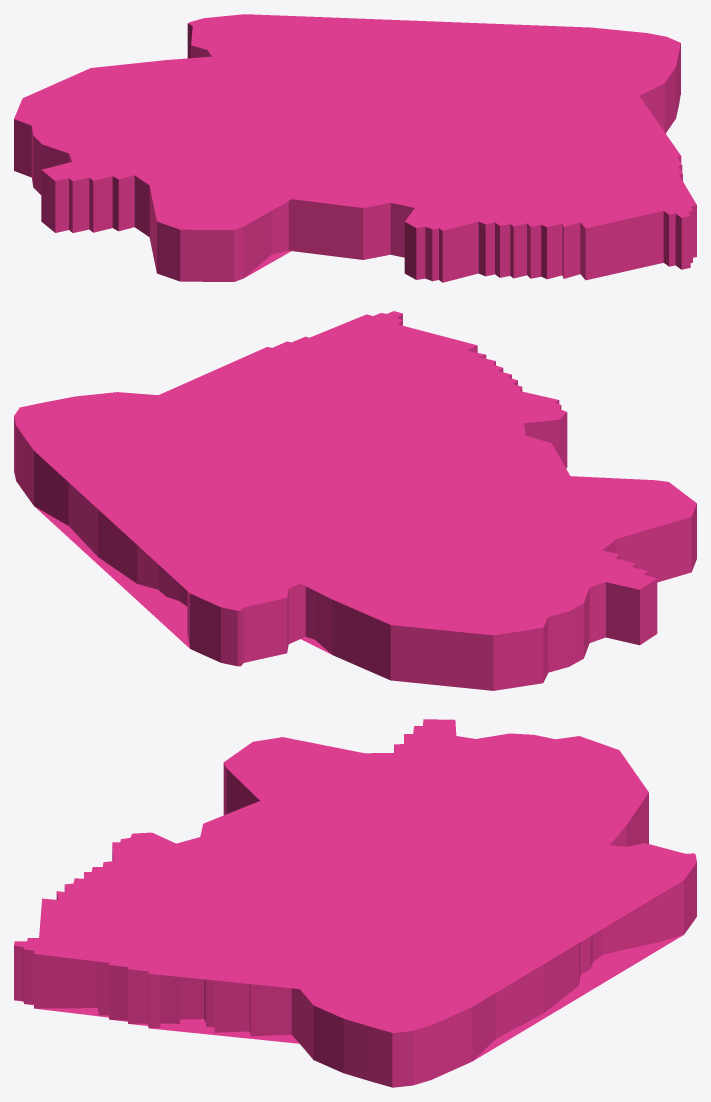
Rendered from uttrakand.fbx.
The picture shows the model from 3 angles, top to bottom: view 1: azimuth 30°, elevation 25°; view 2: azimuth 150°, elevation 25°; view 3: azimuth 270°, elevation 25°; orthographic projection. The views are drawn at different scales.
Parts seen in each view (by area): view 1: Uttarakhand; view 2: Uttarakhand; view 3: Uttarakhand.
Boxes of the visible parts, x1,y1,x2,y2 form: Uttarakhand: (14,14,696,282); Uttarakhand: (14,311,696,690); Uttarakhand: (14,719,696,1087).
Bounding box in the file's own units: 46.85 × 3.81 × 43.08.
